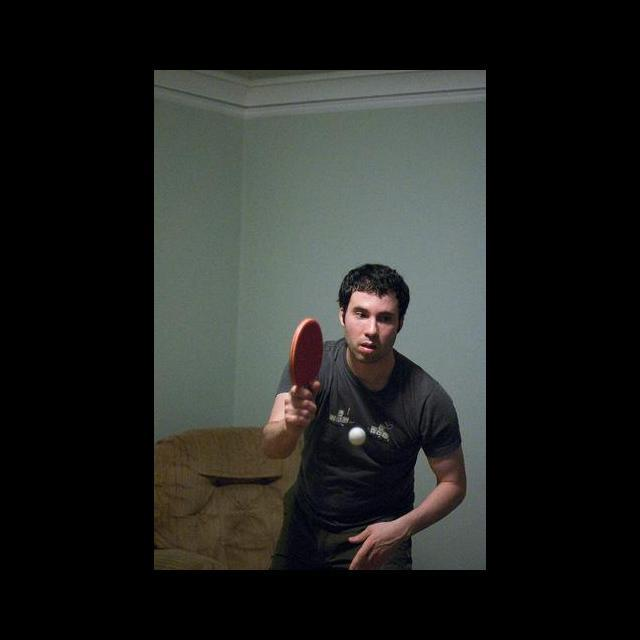ping-pong-ball: (348, 426, 367, 446)
